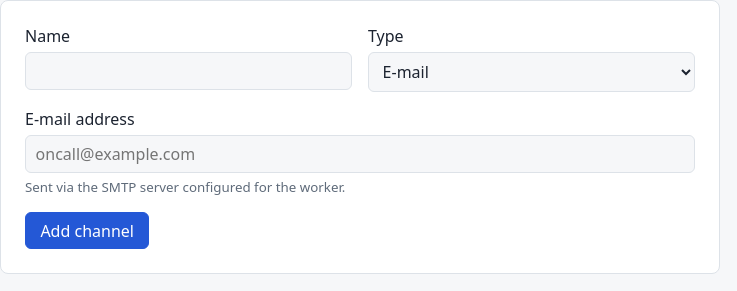
AlertChannelForm › shows the server reason next to the target
The image size is (737, 291).
Select "Webhook" in the dropdown labelled "Type" at (532, 72), box [368,52,695,92]
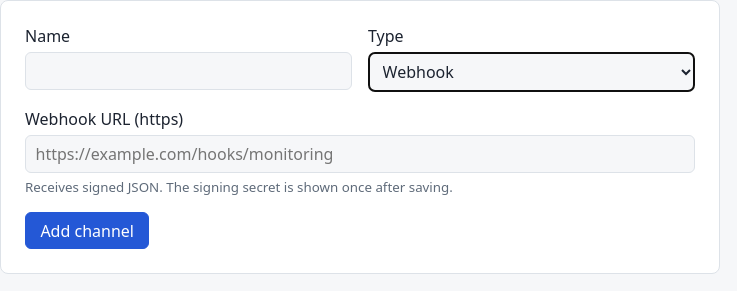
Type "Hook" into the field labelled "Name" at (188, 71), box [25,52,352,90]
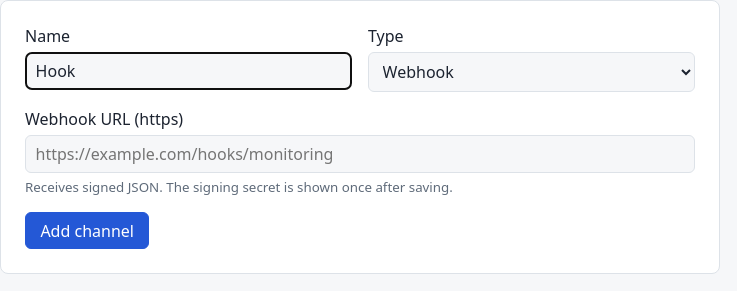
Type "http://example.com" into the field labelled "Webhook URL (https)" at (360, 154), box [25,135,695,173]
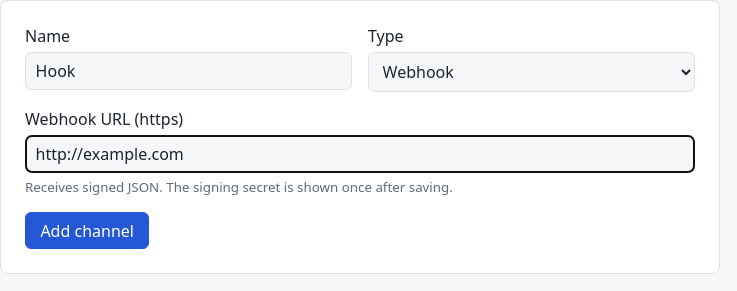
Click the button "Add channel" at (87, 230), box [25,212,149,249]
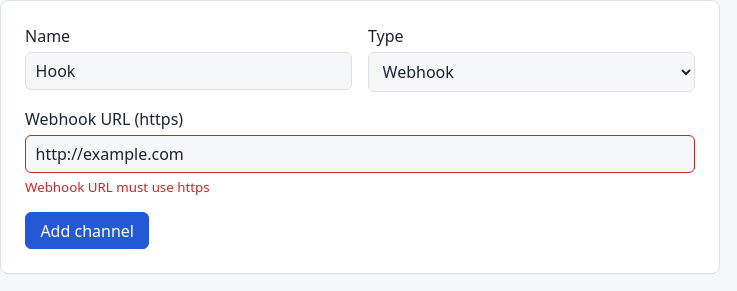
Now the text "Webhook URL must use https" is shown, box [25,178,210,196]
